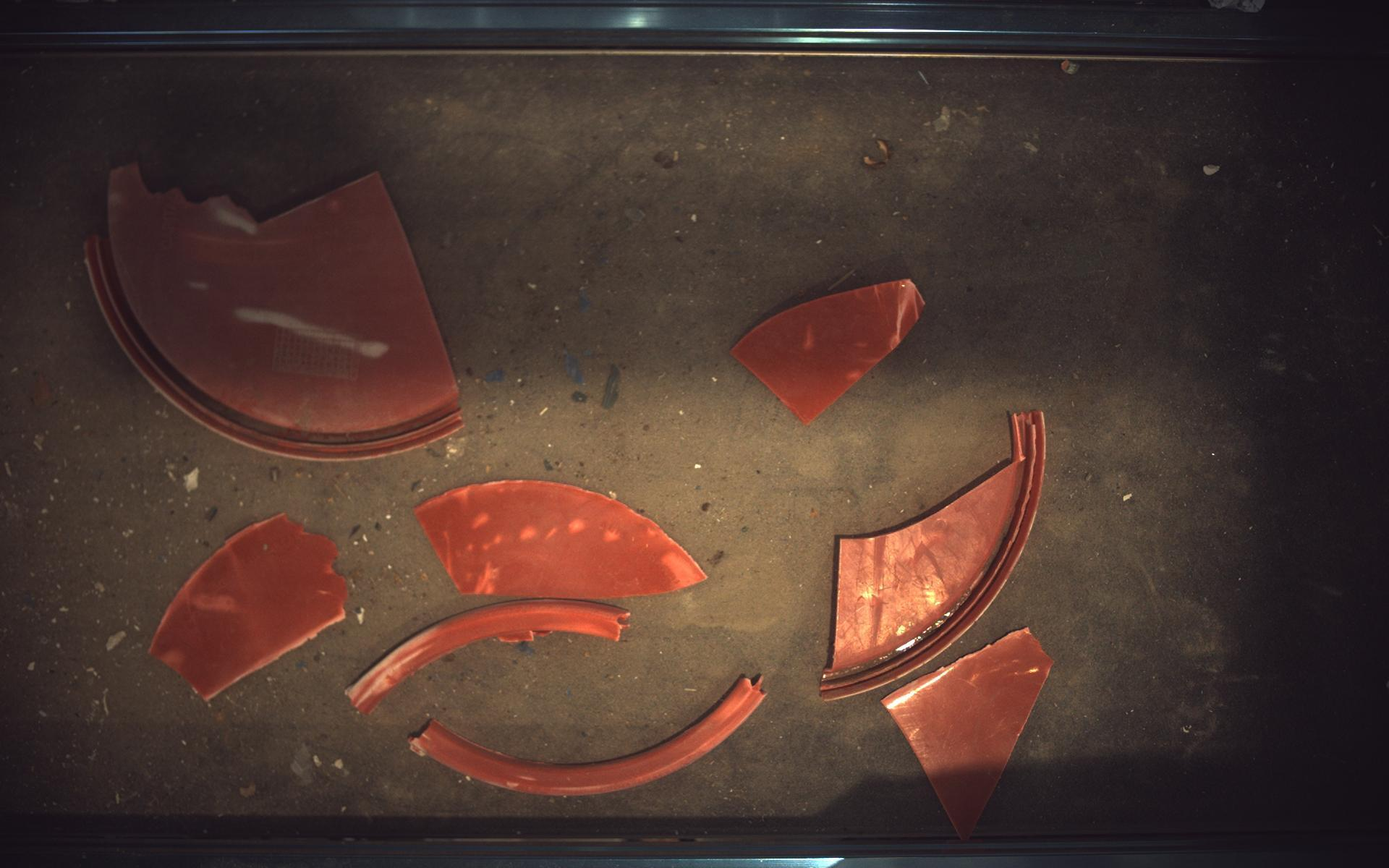plastic: (84, 163, 463, 461), (822, 411, 1048, 701), (409, 678, 766, 797), (149, 514, 347, 702), (884, 629, 1055, 842), (415, 480, 708, 600), (345, 600, 631, 715), (732, 278, 926, 425)
